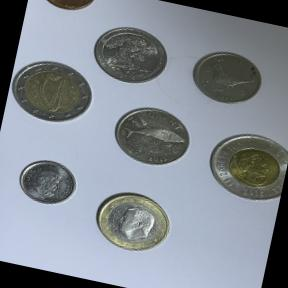1 Euro-B: (82, 180, 182, 262)
2 Euro-B: (3, 50, 101, 134)
Canada-10cent-B: (11, 151, 84, 214)
Canada-2Dollar-B: (197, 120, 288, 210)
Croatia-2Kune-B: (102, 96, 200, 178)
US-1cent-B: (26, 0, 103, 21)
US-25cent-B: (82, 16, 178, 94)
